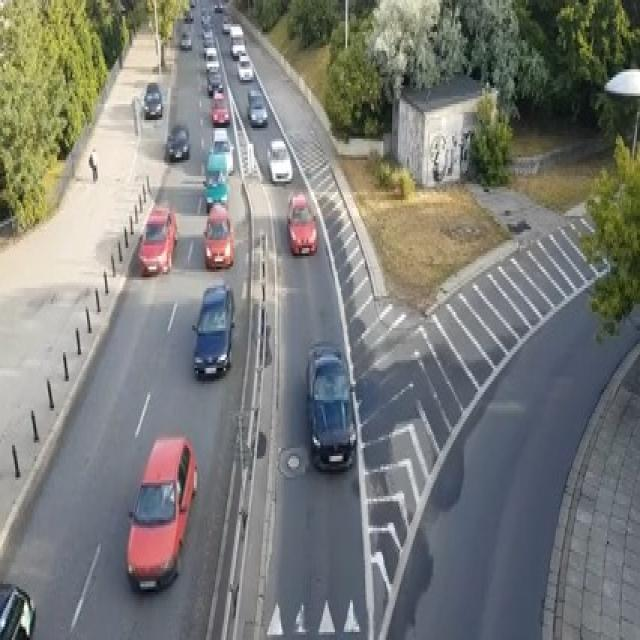car: (125, 435, 197, 592), (305, 341, 356, 472), (191, 283, 234, 376), (137, 205, 177, 275), (285, 192, 317, 256), (203, 203, 234, 269), (0, 579, 35, 637), (266, 139, 291, 184), (203, 174, 230, 214), (210, 128, 234, 173), (166, 123, 190, 160), (246, 88, 268, 125), (204, 149, 227, 184), (141, 80, 162, 117), (210, 91, 230, 125), (237, 53, 254, 80), (206, 69, 222, 96), (204, 45, 220, 72), (228, 22, 244, 38), (230, 42, 245, 58), (179, 29, 191, 48), (203, 27, 213, 45), (221, 16, 231, 32), (200, 11, 210, 24), (184, 8, 192, 21), (214, 0, 222, 11), (189, 0, 195, 5)
